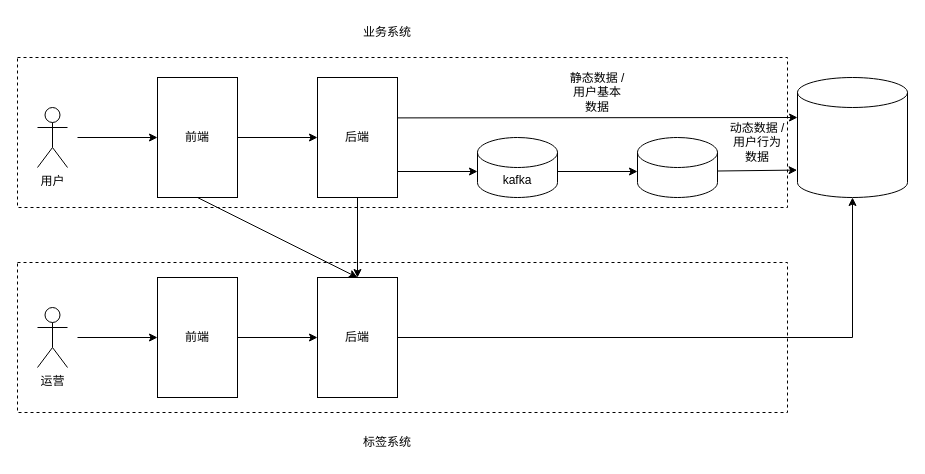
The diagram is 925 pixels wide and 474 high, and some of its shapes have lost their labels. Here are the shapes that lost their labels. From the top down, the centre of each, then its label:
(x=852, y=137): 数据库
(x=677, y=167): flink
